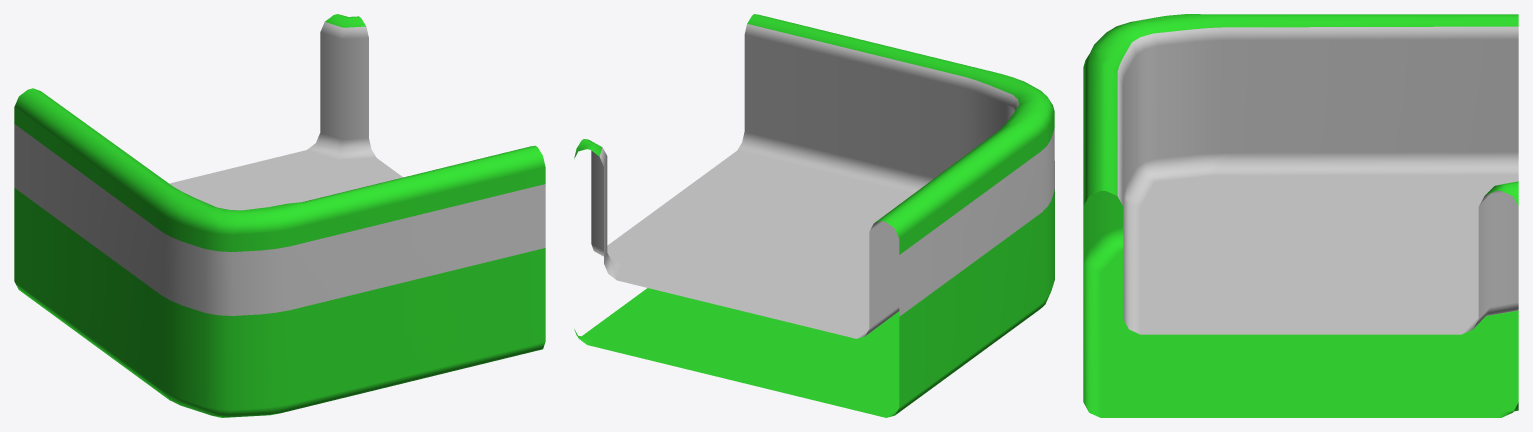
File: ContainerBorderCorner.fbx
3 views of the same model, side by side, from view 1: azimuth 30°, elevation 25°; view 2: azimuth 150°, elevation 25°; view 3: azimuth 270°, elevation 25° (orthographic). The views are drawn at different scales.
Parts seen in each view (by area): view 1: ContainerBorderCorner; view 2: ContainerBorderCorner; view 3: ContainerBorderCorner.
Part boxes in pixels (<box>): ContainerBorderCorner: <box>14,14,545,417</box>; ContainerBorderCorner: <box>574,14,1054,417</box>; ContainerBorderCorner: <box>1083,14,1518,417</box>.
Size of the model in its own units: 50 by 28.78 by 50.
